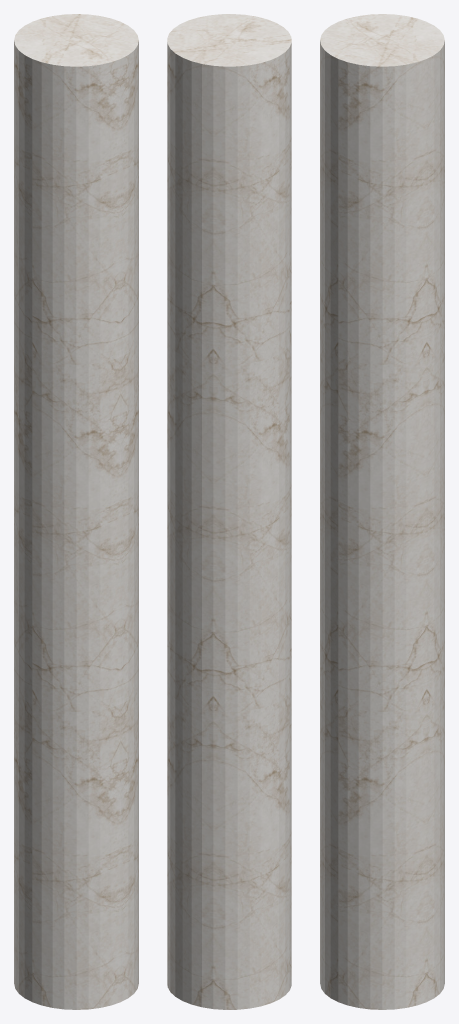
The model's file is SM_StaircaseSupport.fbx.
3 renders of one model, left to right at view 1: azimuth 90°, elevation 25°; view 2: azimuth 210°, elevation 25°; view 3: azimuth 270°, elevation 25°, orthographic.
Parts seen in each view (by area): view 1: Staircase Support.001; view 2: Staircase Support.001; view 3: Staircase Support.001.
Part boxes in pixels (bbox=[...]): Staircase Support.001: bbox=[14, 14, 138, 1009]; Staircase Support.001: bbox=[167, 14, 291, 1009]; Staircase Support.001: bbox=[320, 14, 444, 1009].
Bounding box in the file's own units: 40 × 334 × 40.
